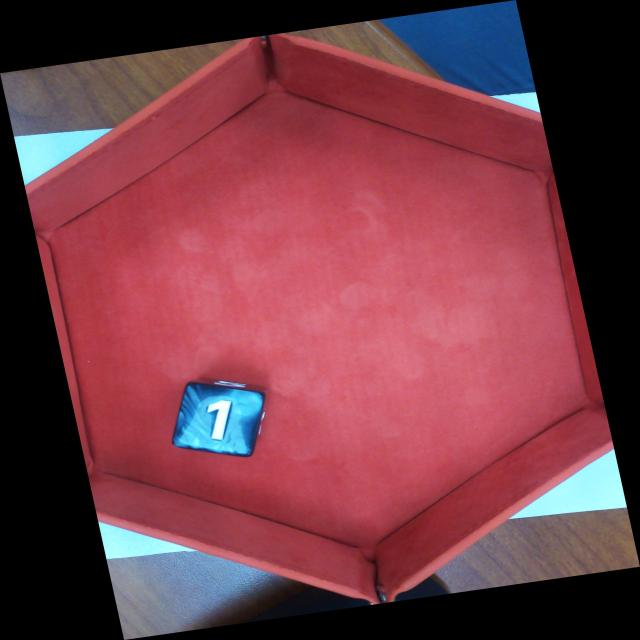dice: (170, 381, 267, 460)
